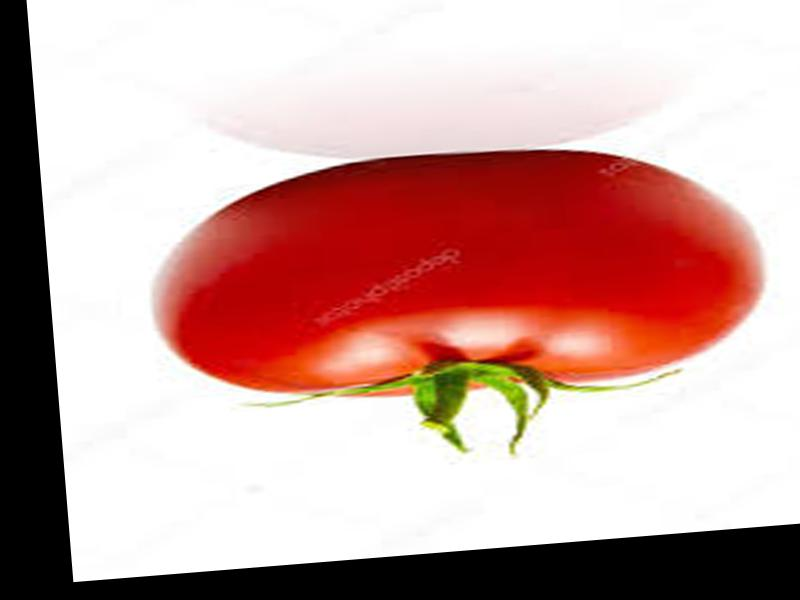Tomato: (141, 129, 774, 415)
